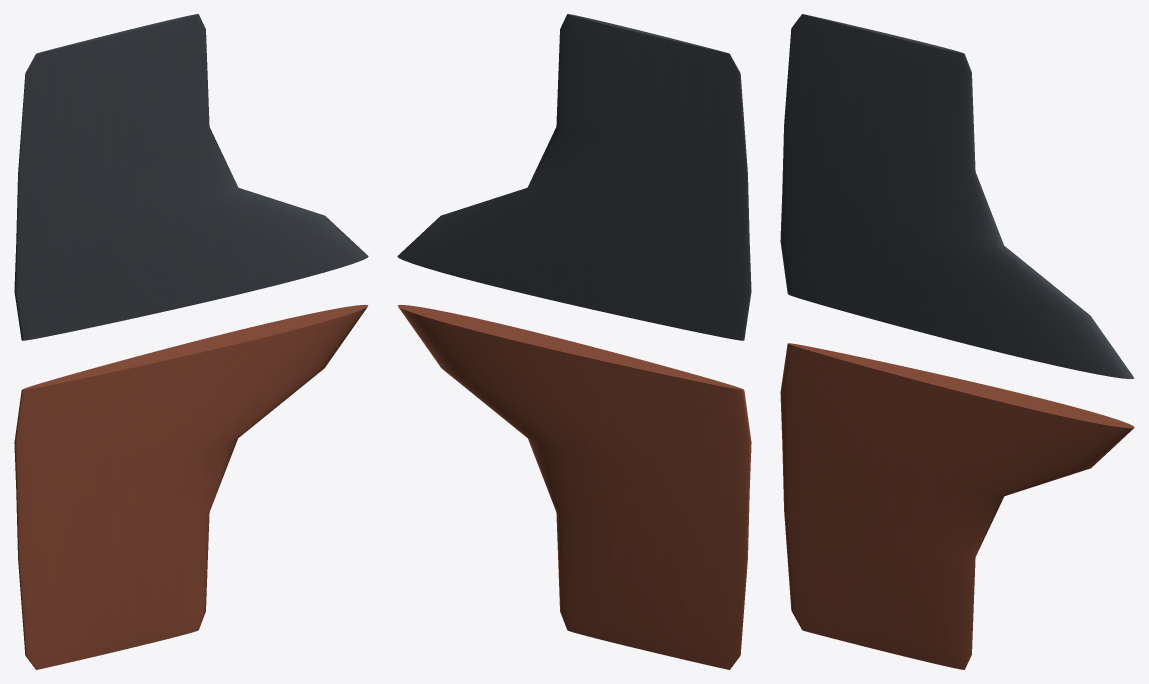
File: RU_SSN_Akula_RUDDER.fbx
The picture shows the model from 3 angles, left to right: view 1: azimuth 30°, elevation 25°; view 2: azimuth 150°, elevation 25°; view 3: azimuth 330°, elevation 25°; orthographic projection.
Visible parts, largest first — view 1: RU_SSN_Akula_RUDDER; view 2: RU_SSN_Akula_RUDDER; view 3: RU_SSN_Akula_RUDDER.
Boxes of the visible parts, bbox=[...] form: RU_SSN_Akula_RUDDER: bbox=[14, 14, 368, 669]; RU_SSN_Akula_RUDDER: bbox=[397, 14, 751, 669]; RU_SSN_Akula_RUDDER: bbox=[780, 14, 1134, 669].
Size of the model in its own units: 9.8 by 0.6625 by 16.3.
